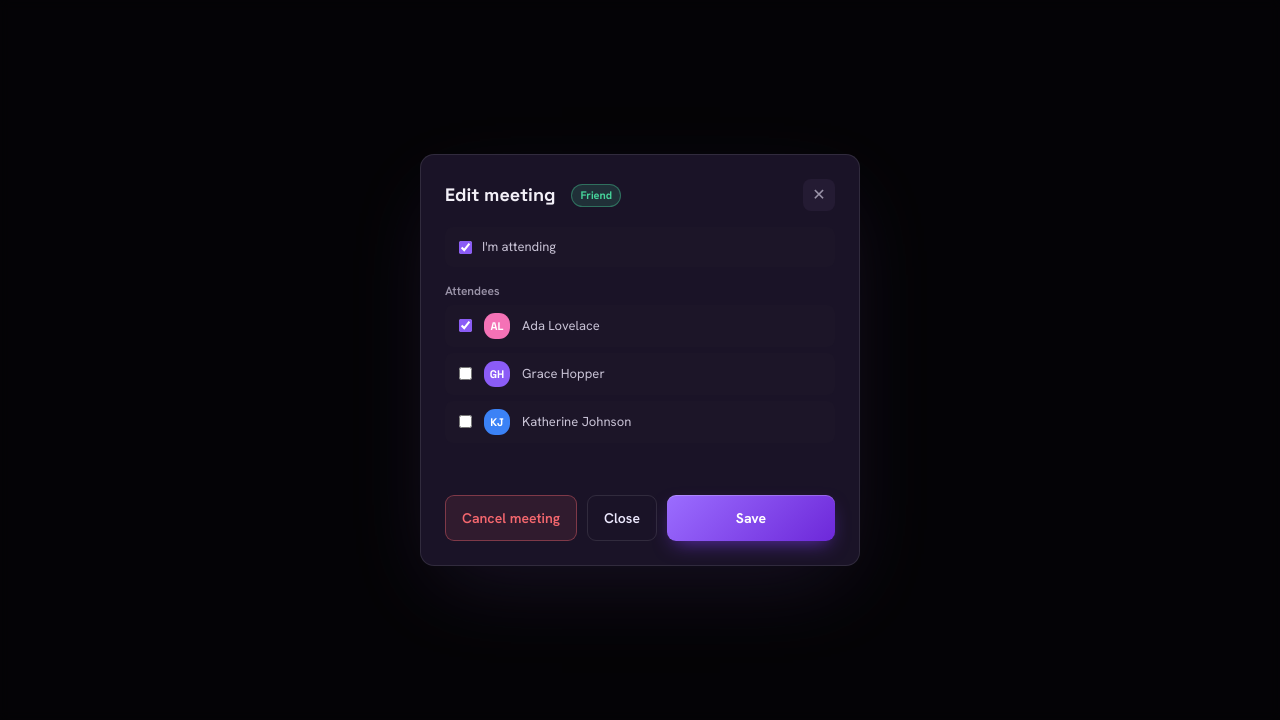
Test: MeetingEditModal › removing the only other attendee drops below valid attendance and disables Save
Check: the text "Ada Lovelace" is shown, box [522,317,600,334]
Click the checkbox labelled "AL Ada Lovelace" at coordinates (466, 326), box [459,319,472,332]
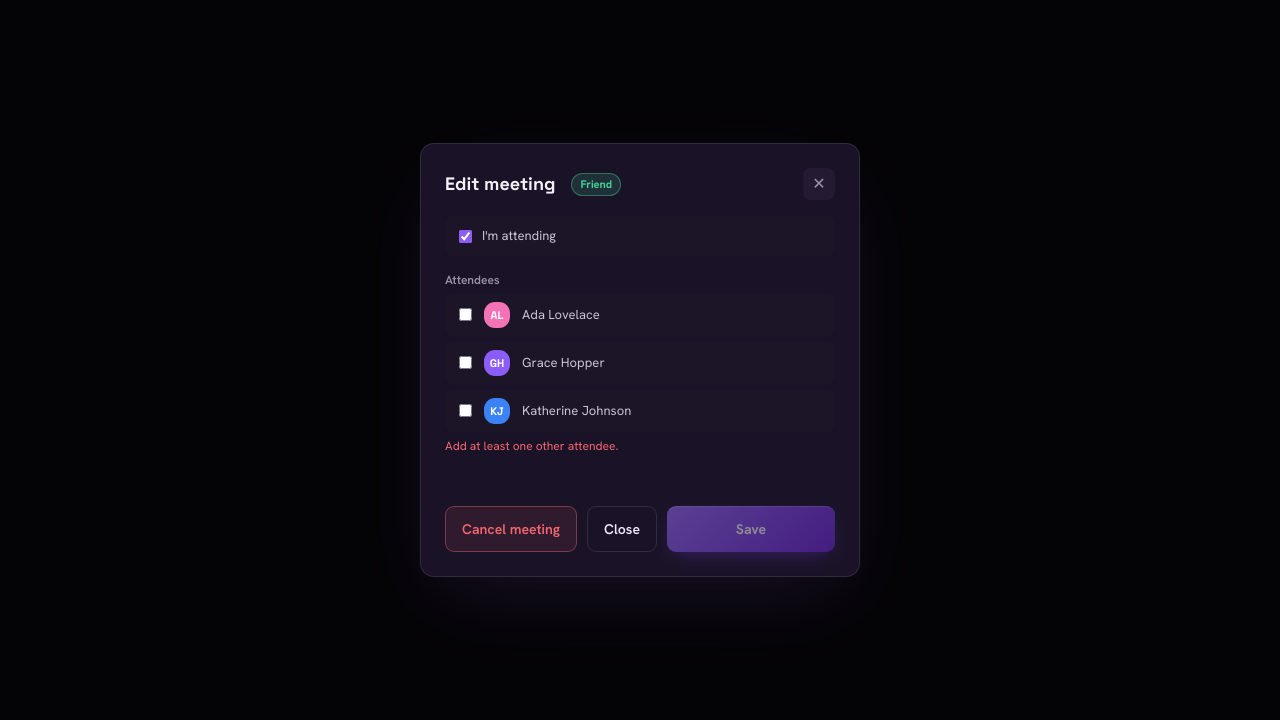
Check: the button "Save" is disabled, box [667,506,835,552]
Check: the text "Add at least one other attendee." is shown, box [445,438,618,454]
